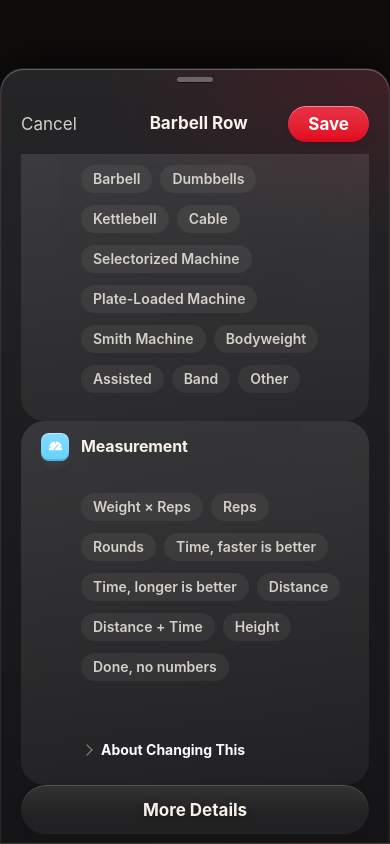
Test case: grip, stance, angle and variation answer with buttons › offers the common answers as chips instead of an empty text field
(page scrolled)
What coordinates should you click on to do the following:
click the button "More Details"
I would click on:
 (195, 810)
Its box is [21,784,369,834].
(page scrolled)
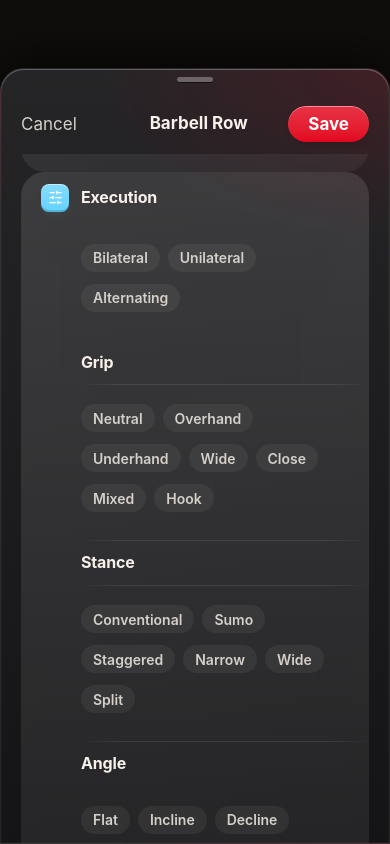
Result: the button with aria-label "Grip Neutral" is shown at [81,404,155,432]
